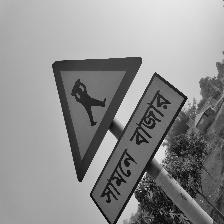Market-in-front: (52, 57, 188, 224)
